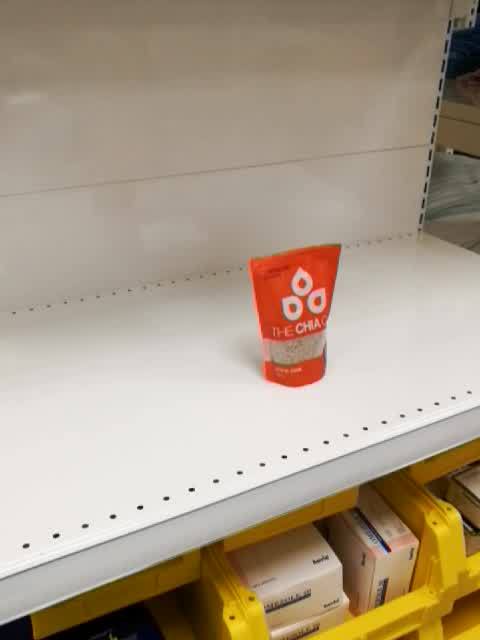whitechia: (248, 241, 346, 389)
